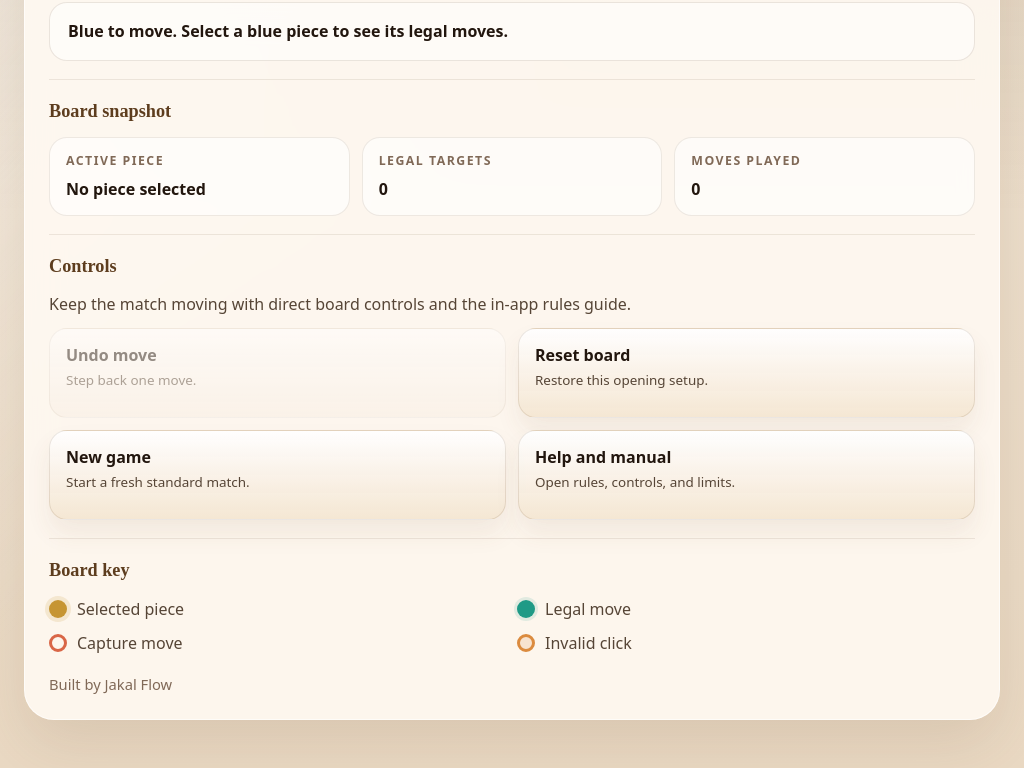
Scenario: App board interactions › opens the in-app manual with branded help content
(page scrolled)
Click the button "Help and manual Open rules, controls, and limits.". click: (603, 457)
box: [518,430,975,520]
(page scrolled)
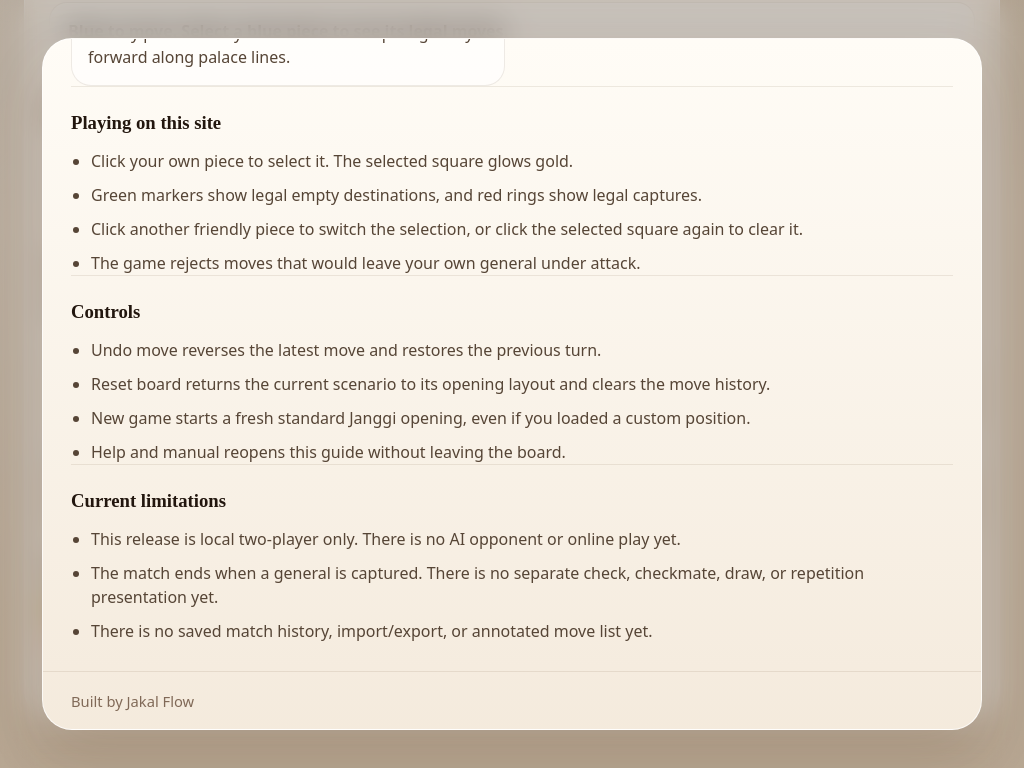
Expected: the text "built by jakal flow" is shown 2 times
Expected: the list item "Click your own piece to select it" is shown, [91,150,573,172]
Expected: the list item "Reset board returns the current scenario" is shown, [91,373,770,395]
